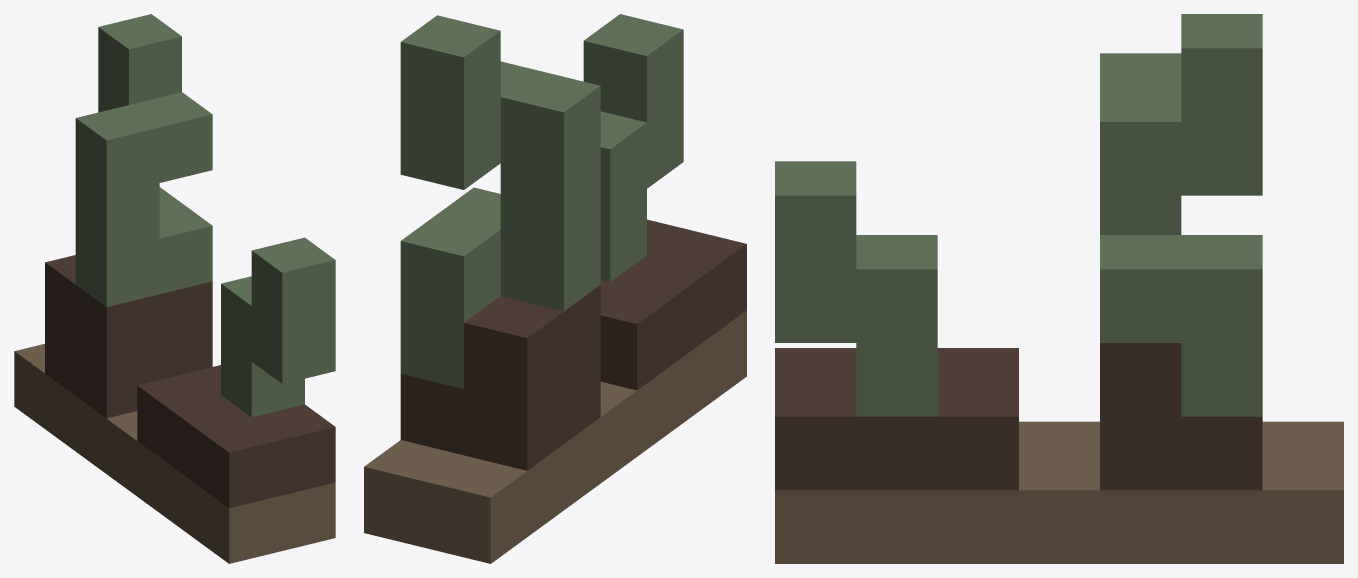
Rendered from Corner Cafe-0.obj.
3 renders of one model, left to right at view 1: azimuth 30°, elevation 25°; view 2: azimuth 150°, elevation 25°; view 3: azimuth 270°, elevation 25°, orthographic. The views are drawn at different scales.
Size of the model in its own units: 0.2 by 0.7 by 0.7.
Materials: 1 (1 with a texture image).
